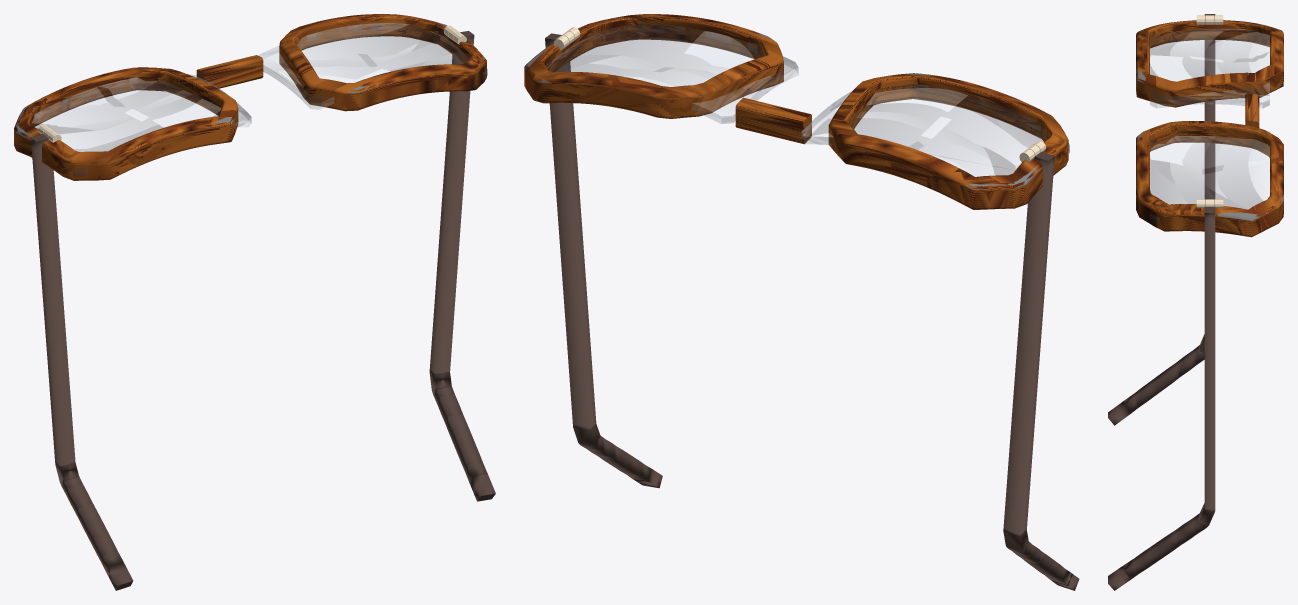
Rendered from cateye.glb.
The picture shows the model from 3 angles, left to right: view 1: azimuth 30°, elevation 25°; view 2: azimuth 150°, elevation 25°; view 3: azimuth 270°, elevation 25°; orthographic projection. The views are drawn at different scales.
Visible parts, largest first — view 1: MEL_eyewear_Frame, MEL_eyewear_TempleR, MEL_eyewear_TempleL, MEL_eyewear_LensL, MEL_eyewear_LensR; view 2: MEL_eyewear_Frame, MEL_eyewear_LensL, MEL_eyewear_LensR, MEL_eyewear_TempleR, MEL_eyewear_TempleL; view 3: MEL_eyewear_Frame, MEL_eyewear_LensR, MEL_eyewear_LensL, MEL_eyewear_TempleL, MEL_eyewear_TempleR.
Boxes of the visible parts, x1=… form: MEL_eyewear_Frame: x1=14, y1=14, x2=486, y2=180; MEL_eyewear_TempleR: x1=31, y1=134, x2=133, y2=590; MEL_eyewear_TempleL: x1=429, y1=31, x2=495, y2=501; MEL_eyewear_LensL: x1=31, y1=74, x2=251, y2=176; MEL_eyewear_LensR: x1=258, y1=23, x2=487, y2=109; MEL_eyewear_Frame: x1=524, y1=14, x2=1068, y2=209; MEL_eyewear_LensL: x1=801, y1=84, x2=1069, y2=176; MEL_eyewear_LensR: x1=546, y1=24, x2=798, y2=123; MEL_eyewear_TempleR: x1=1003, y1=152, x2=1079, y2=590; MEL_eyewear_TempleL: x1=545, y1=33, x2=662, y2=488; MEL_eyewear_Frame: x1=1136, y1=15, x2=1283, y2=237; MEL_eyewear_LensR: x1=1150, y1=129, x2=1269, y2=224; MEL_eyewear_LensL: x1=1150, y1=29, x2=1269, y2=108; MEL_eyewear_TempleL: x1=1108, y1=205, x2=1215, y2=590; MEL_eyewear_TempleR: x1=1108, y1=14, x2=1215, y2=425.
Bounding box in the file's own units: 0.1336 × 0.1272 × 0.0499.
5 materials, 3 textured.
